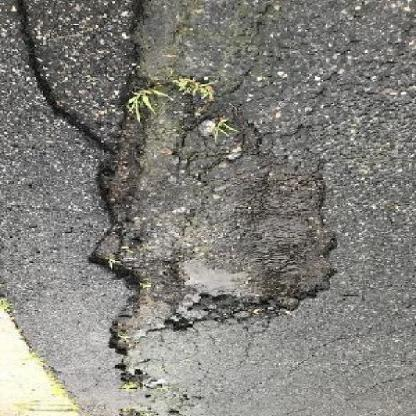pothole: (83, 77, 342, 387)
